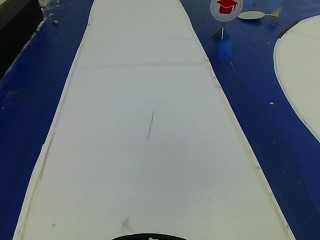school: (205, 0, 241, 22)
